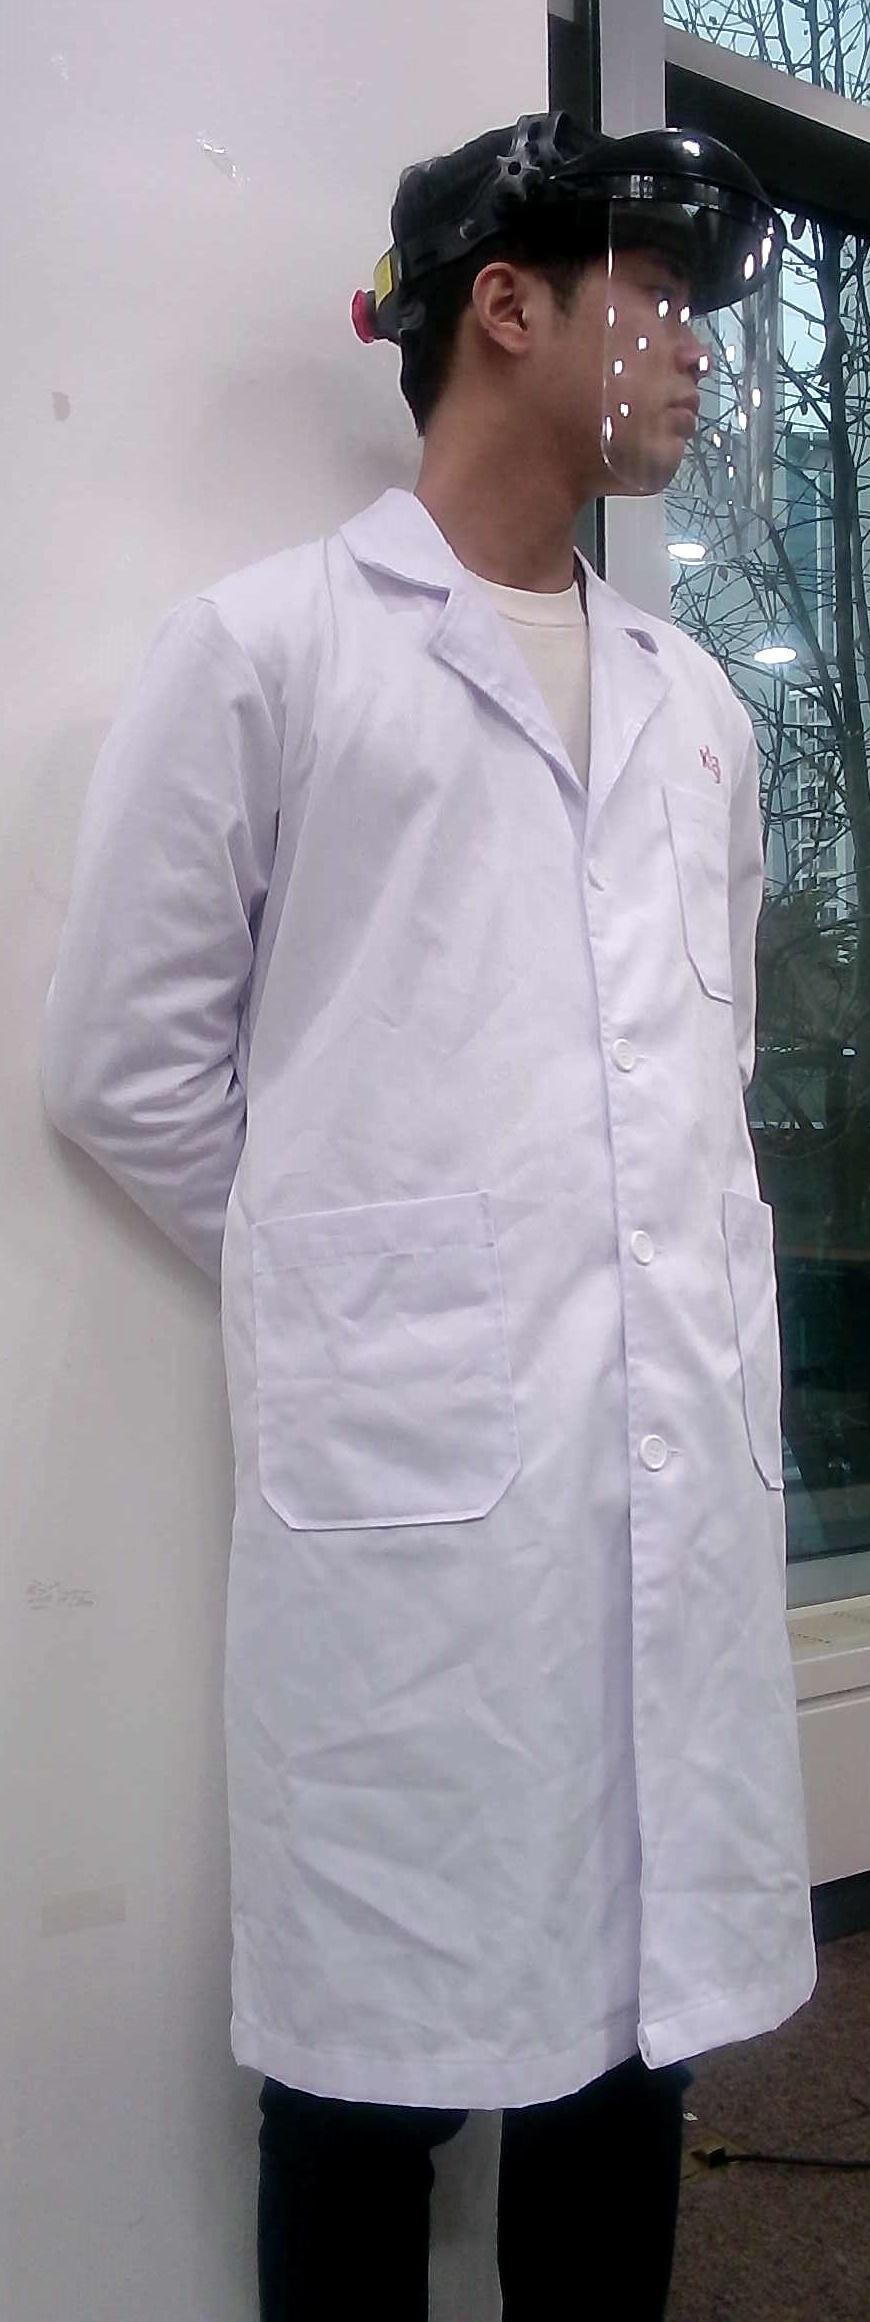lab_coat: (41, 572, 870, 2088)
